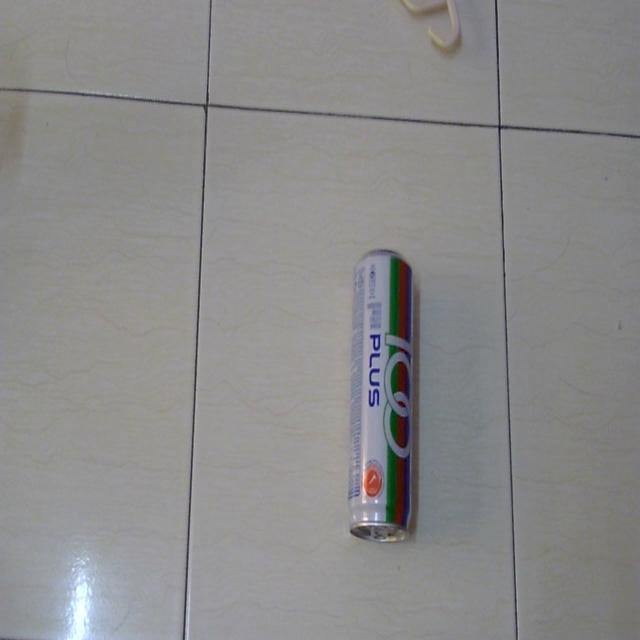metal_laydown_90rotation: (344, 243, 421, 545)
